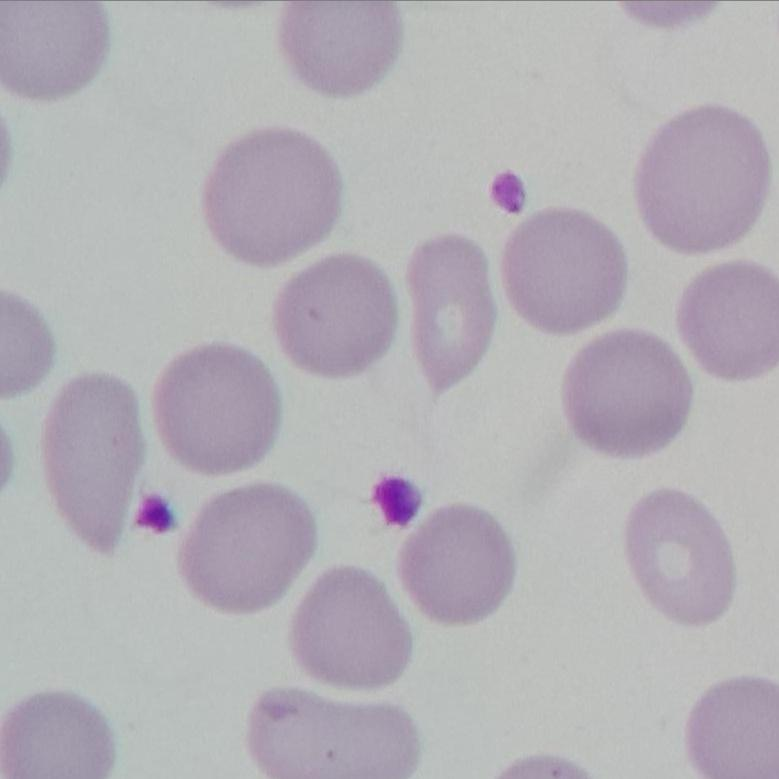Uninfected: (201, 127, 340, 267), (636, 108, 765, 251), (154, 342, 285, 475), (49, 373, 144, 555), (560, 330, 692, 455), (177, 487, 313, 607), (247, 683, 416, 779), (506, 210, 627, 339), (629, 487, 736, 628), (293, 566, 413, 688), (277, 256, 398, 376), (403, 502, 515, 622), (407, 237, 493, 390), (280, 0, 404, 95), (681, 260, 779, 380), (0, 0, 110, 102), (0, 696, 121, 779), (691, 670, 779, 779)
